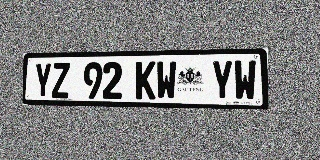2: (103, 62, 122, 99)
9: (84, 62, 102, 99)
K: (136, 61, 156, 99)
W: (234, 60, 257, 101), (156, 61, 177, 100)
Y: (211, 60, 233, 100), (34, 63, 52, 98)
Z: (52, 62, 70, 98)
